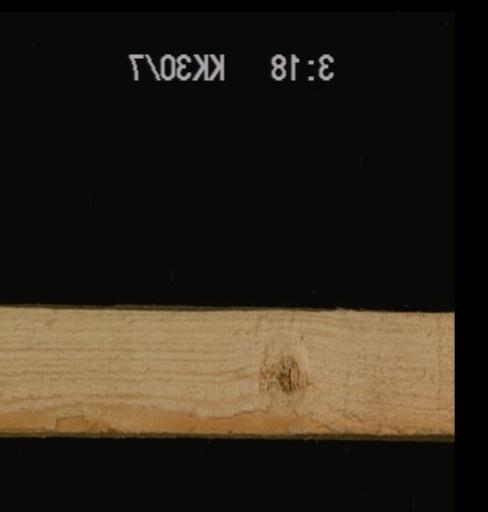sound_knot: (266, 347, 304, 397)
